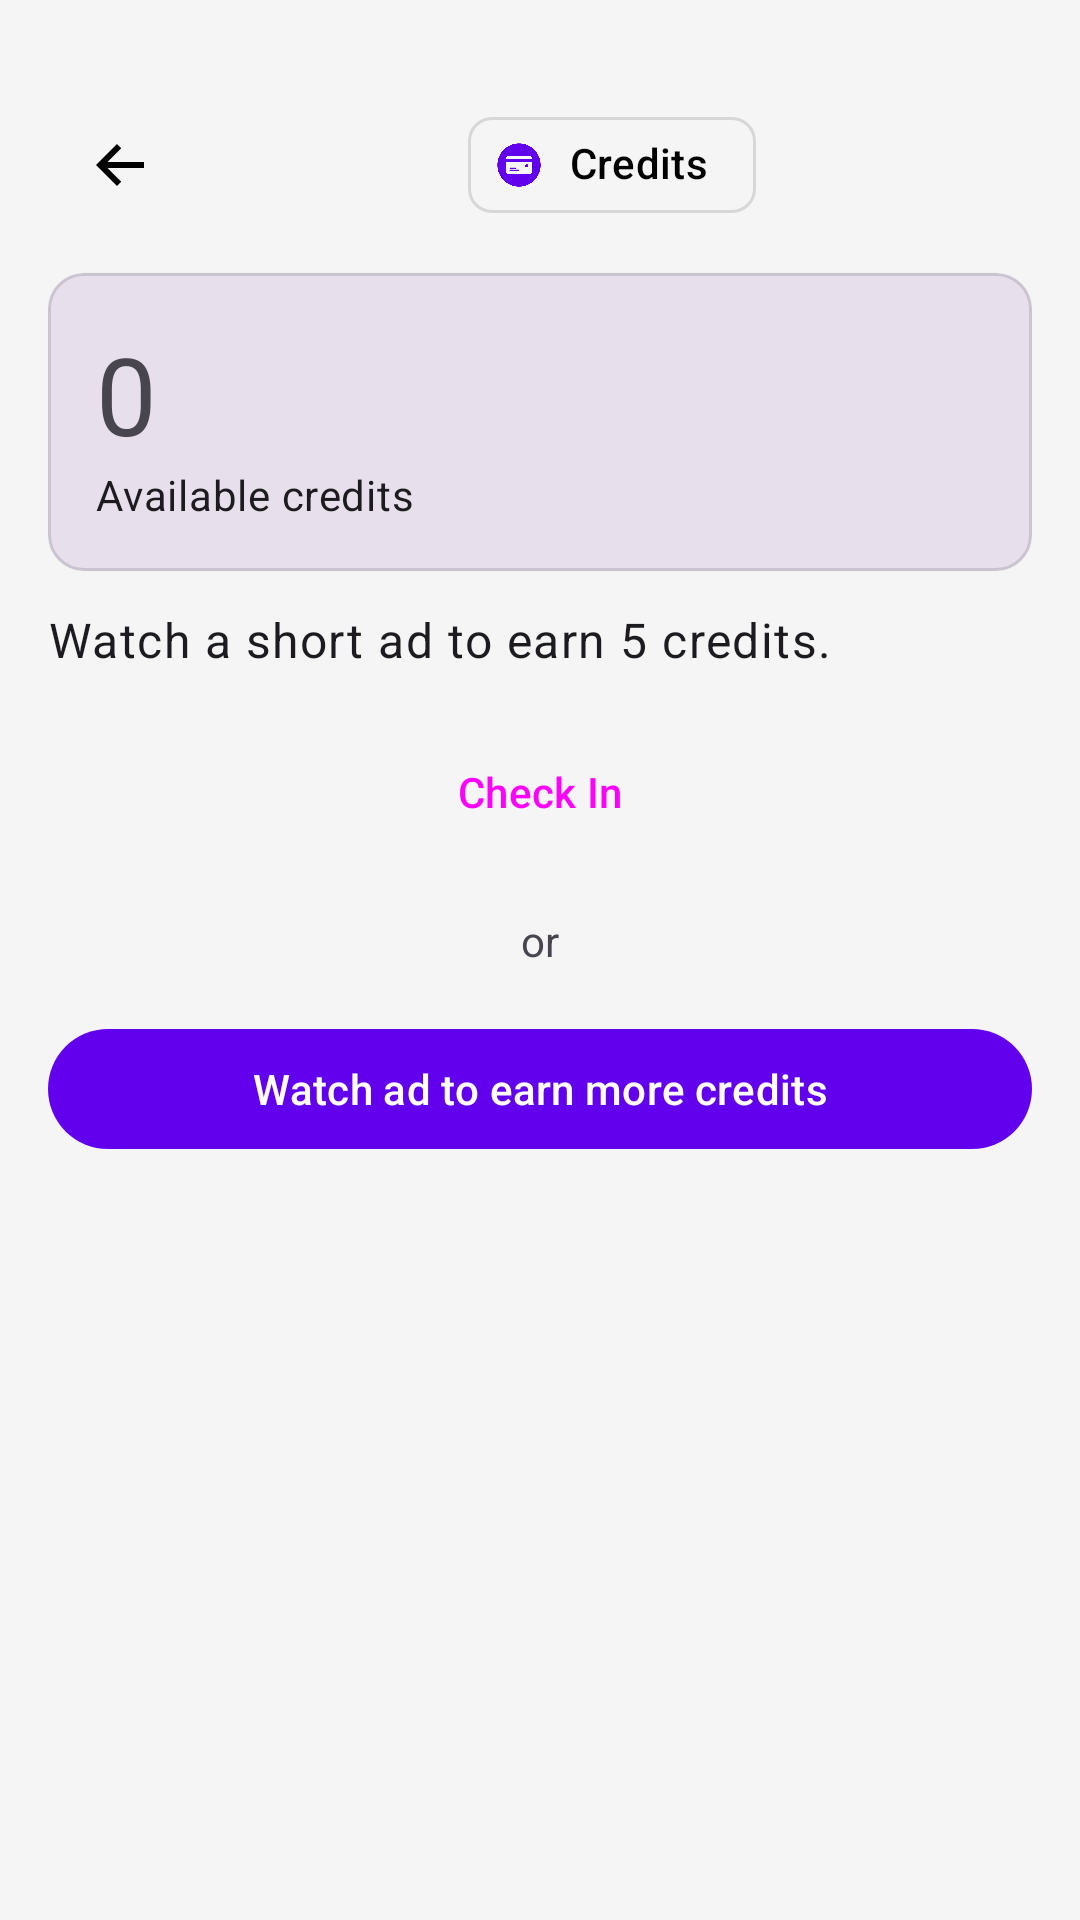

Screen size 1080px x 1920px. Icon name, then its box in pixels as (x1, y1, x2, y2):
Back: (96, 144, 144, 186)
